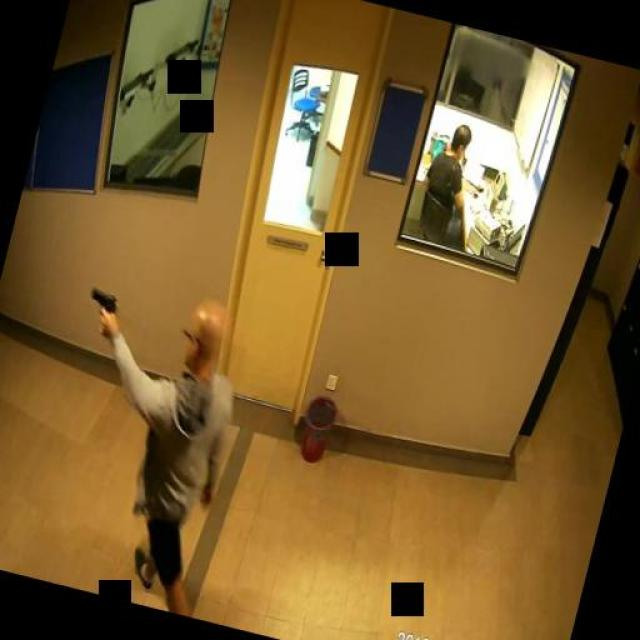gun: (79, 282, 126, 338)
